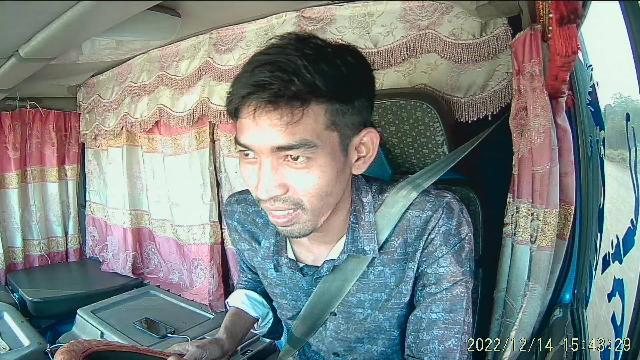PhoneUse: (286, 138, 484, 360), (130, 313, 178, 341)
SafeDriving: (275, 144, 317, 169), (230, 141, 266, 166)
